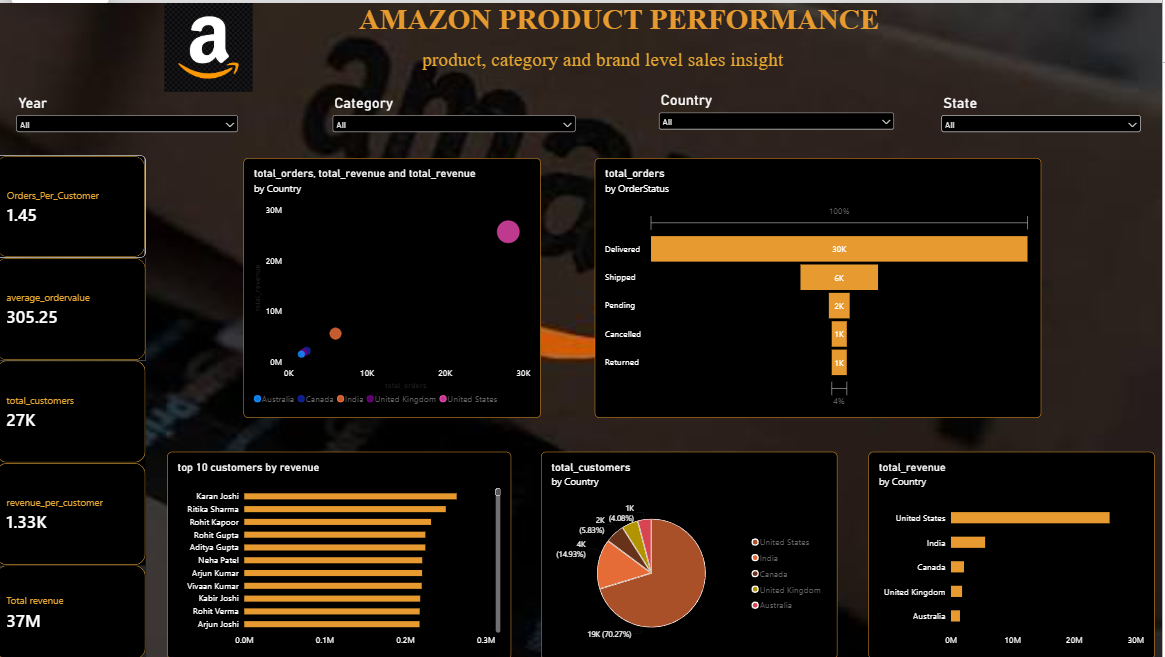

The page's visual inventory and layout, read from the dashboard file:
{"tool":"powerbi","page":{"name":"customer analytics","canvas":[1920,1080],"ordinal":2},"visuals":[{"type":"textbox","box":[275.8,0,1500.5,98.8],"z":0},{"type":"textbox","box":[701.9,74.1,977.7,72],"z":1000},{"type":"image","box":[181.1,0,337.6,146.1],"z":2000},{"type":"cardVisual","title":"total revenue","fields":{"Data":["factorders.total_revenue"]},"box":[0,925.6,247,154.4],"z":3000},{"type":"cardVisual","fields":{"Data":["factorders.revenue_per_customer"]},"box":[0,757.5,246,168.8],"z":4000},{"type":"cardVisual","fields":{"Data":["factorders.average_ordervalue"]},"box":[0,419.9,246,168.8],"z":5000},{"type":"cardVisual","fields":{"Data":["factorders.total_customers"]},"box":[0,588.7,246,168.8],"z":6000},{"type":"cardVisual","fields":{"Data":["factorders.Orders_Per_Customer"]},"box":[0,251.1,246,168],"z":7000},{"type":"clusteredBarChart","title":"top 10 customers by revenue","fields":{"Y":["factorders.total_revenue"],"Category":["dimcustomer.CustomerName"]},"box":[282,738.9,566,341.7],"z":8000},{"type":"clusteredBarChart","fields":{"Y":["factorders.total_revenue"],"Category":["dimcustomer.Country"]},"box":[1436.7,738.9,471.4,341.7],"z":9000},{"type":"slicer","title":"year","fields":{"Values":["DimDate.Year"]},"box":[28.8,150.3,374.6,105],"z":10000},{"type":"slicer","fields":{"Values":["dimproduct.Category"]},"box":[549.6,150.3,409.6,86.4],"z":11000},{"type":"slicer","fields":{"Values":["dimcustomer.State"]},"box":[1552,150.3,337.6,94.7],"z":12000},{"type":"slicer","fields":{"Values":["dimcustomer.Country"]},"box":[1086.8,146.1,397.3,125.6],"z":13000},{"type":"scatterChart","fields":{"X":["factorders.total_orders"],"Y":["factorders.total_revenue"],"Series":["dimcustomer.Country"],"Size":["factorders.total_revenue"]},"box":[407.5,255.2,489.9,428.1],"z":14000},{"type":"pieChart","fields":{"Y":["factorders.total_customers"],"Category":["dimcustomer.Country"]},"box":[897.4,738.9,487.8,341.7],"z":15000},{"type":"funnel","fields":{"Y":["factorders.total_orders"],"Category":["factorders.OrderStatus"]},"box":[985.9,255.2,734.8,428.1],"z":16000}]}

Visuals, with their boxes in screenshot pixels (x1, y1, x2, y2), scaled from the page's 1920x1080 canvas onto the 1165x657 screenshot:
textbox: x1=167, y1=0, x2=1078, y2=60
textbox: x1=426, y1=45, x2=1019, y2=89
image: x1=110, y1=0, x2=315, y2=89
"total revenue" cardVisual: x1=0, y1=563, x2=150, y2=656
cardVisual - factorders.revenue_per_customer: x1=0, y1=461, x2=149, y2=563
cardVisual - factorders.average_ordervalue: x1=0, y1=255, x2=149, y2=358
cardVisual - factorders.total_customers: x1=0, y1=358, x2=149, y2=461
cardVisual - factorders.Orders_Per_Customer: x1=0, y1=153, x2=149, y2=255
"top 10 customers by revenue" clusteredBarChart: x1=171, y1=449, x2=515, y2=656
clusteredBarChart - factorders.total_revenue x dimcustomer.Country: x1=872, y1=449, x2=1158, y2=656
"year" slicer: x1=17, y1=91, x2=245, y2=155
slicer - dimproduct.Category: x1=333, y1=91, x2=582, y2=144
slicer - dimcustomer.State: x1=942, y1=91, x2=1147, y2=149
slicer - dimcustomer.Country: x1=659, y1=89, x2=901, y2=165
scatterChart - factorders.total_orders x factorders.total_revenue: x1=247, y1=155, x2=545, y2=416
pieChart - factorders.total_customers x dimcustomer.Country: x1=545, y1=449, x2=840, y2=656
funnel - factorders.total_orders x factorders.OrderStatus: x1=598, y1=155, x2=1044, y2=416
